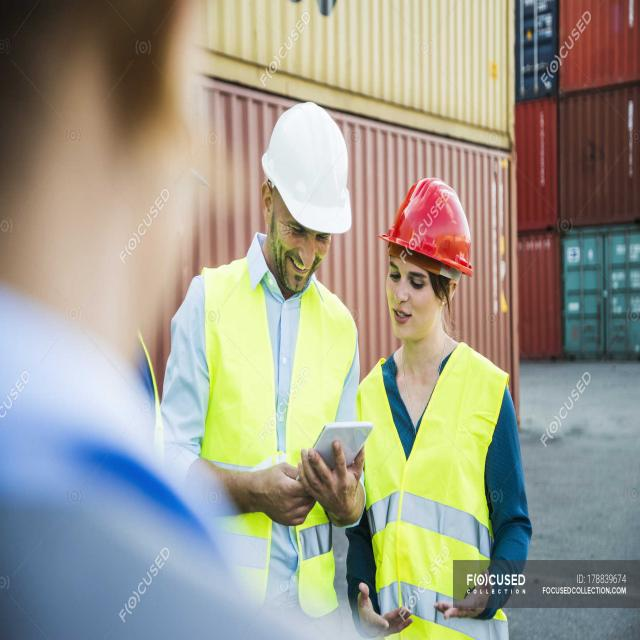Reflective-Jacket: (198, 259, 353, 619), (356, 345, 514, 640)
Safety-Helmet: (258, 97, 355, 240), (376, 169, 478, 278)
